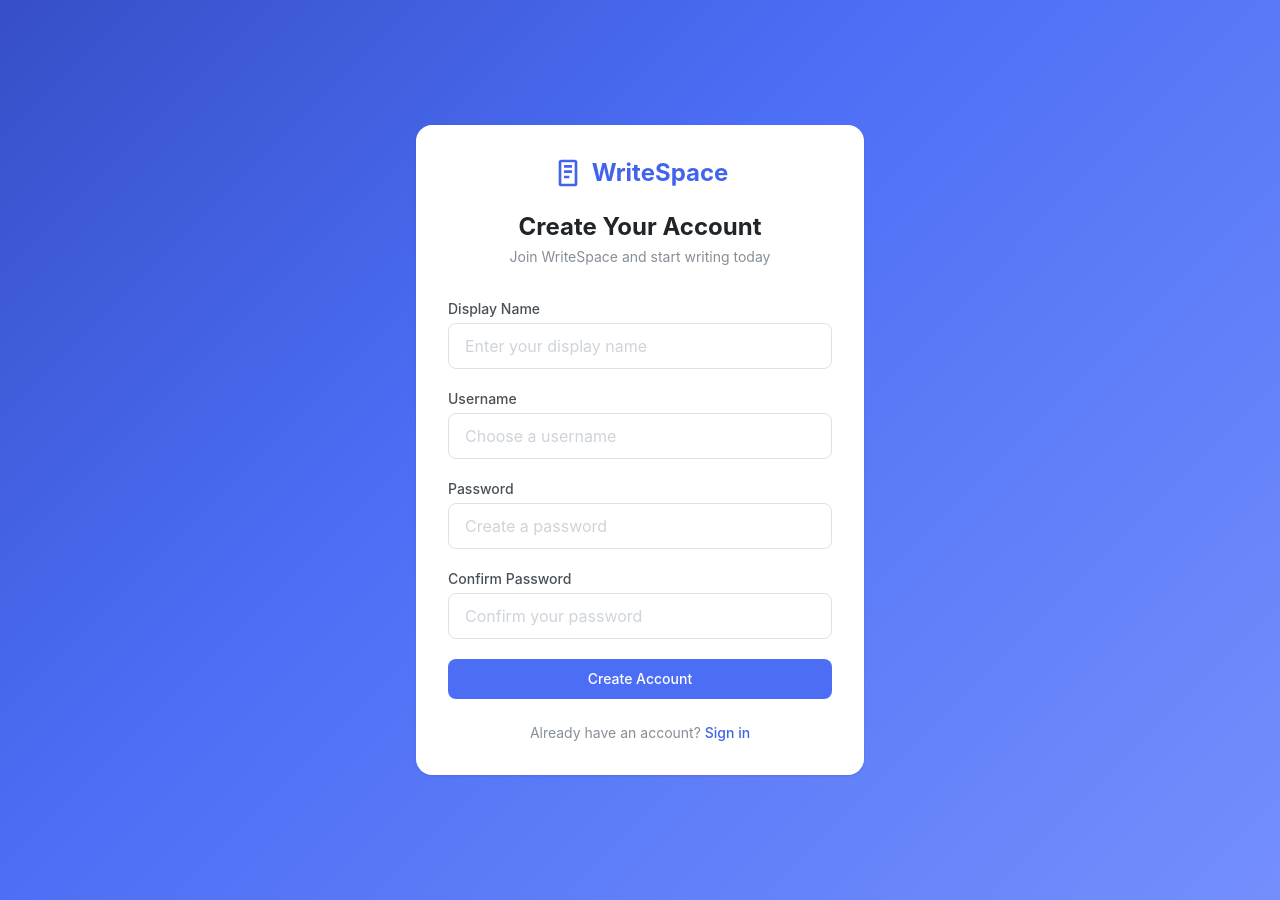
RegisterPage › validation errors › displays an error when passwords do not match
Type "Bob" into the field labelled "Display Name". click: (640, 346)
box: [448,323,832,369]
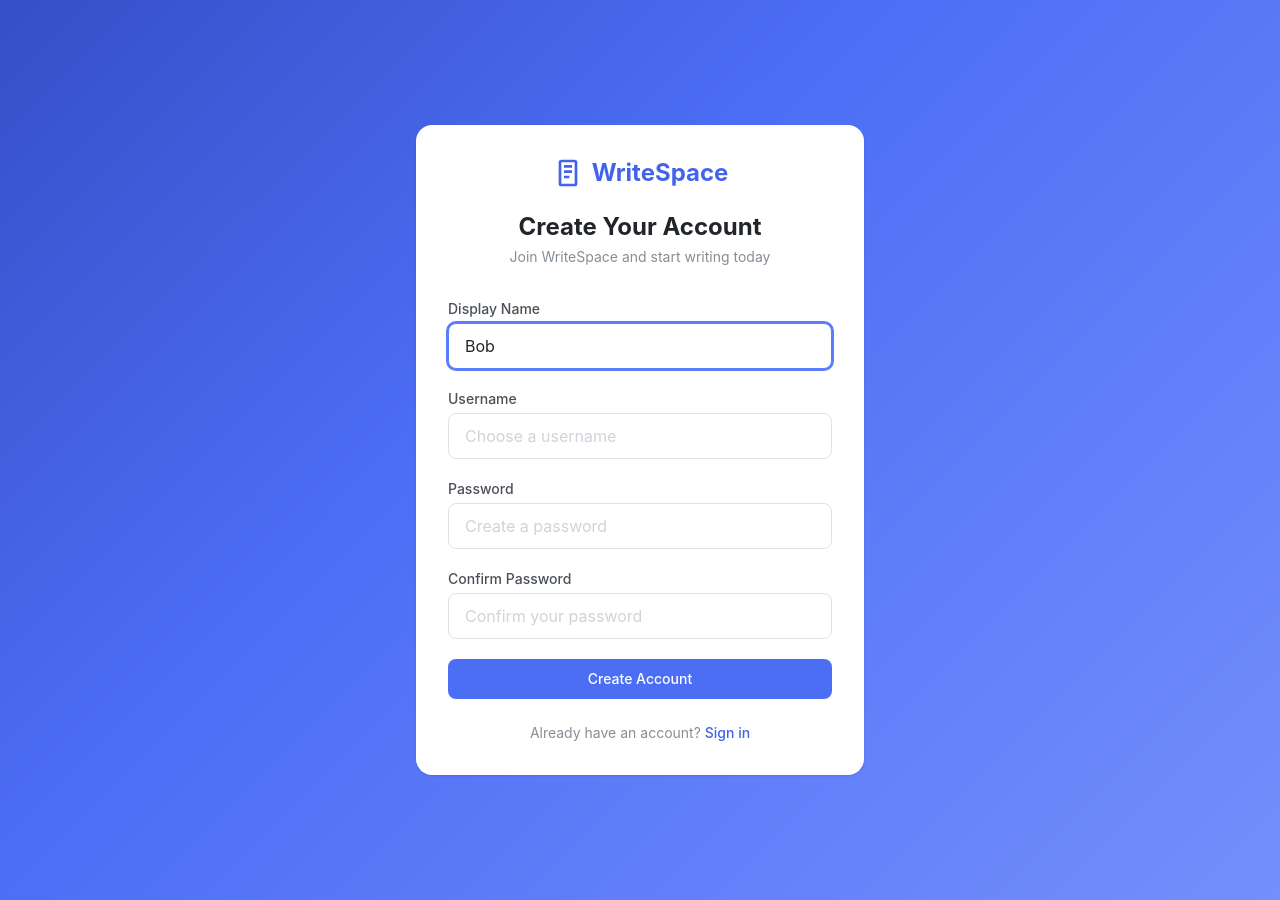
Type "bob" into the field labelled "Username". click: (640, 436)
box: [448,413,832,459]
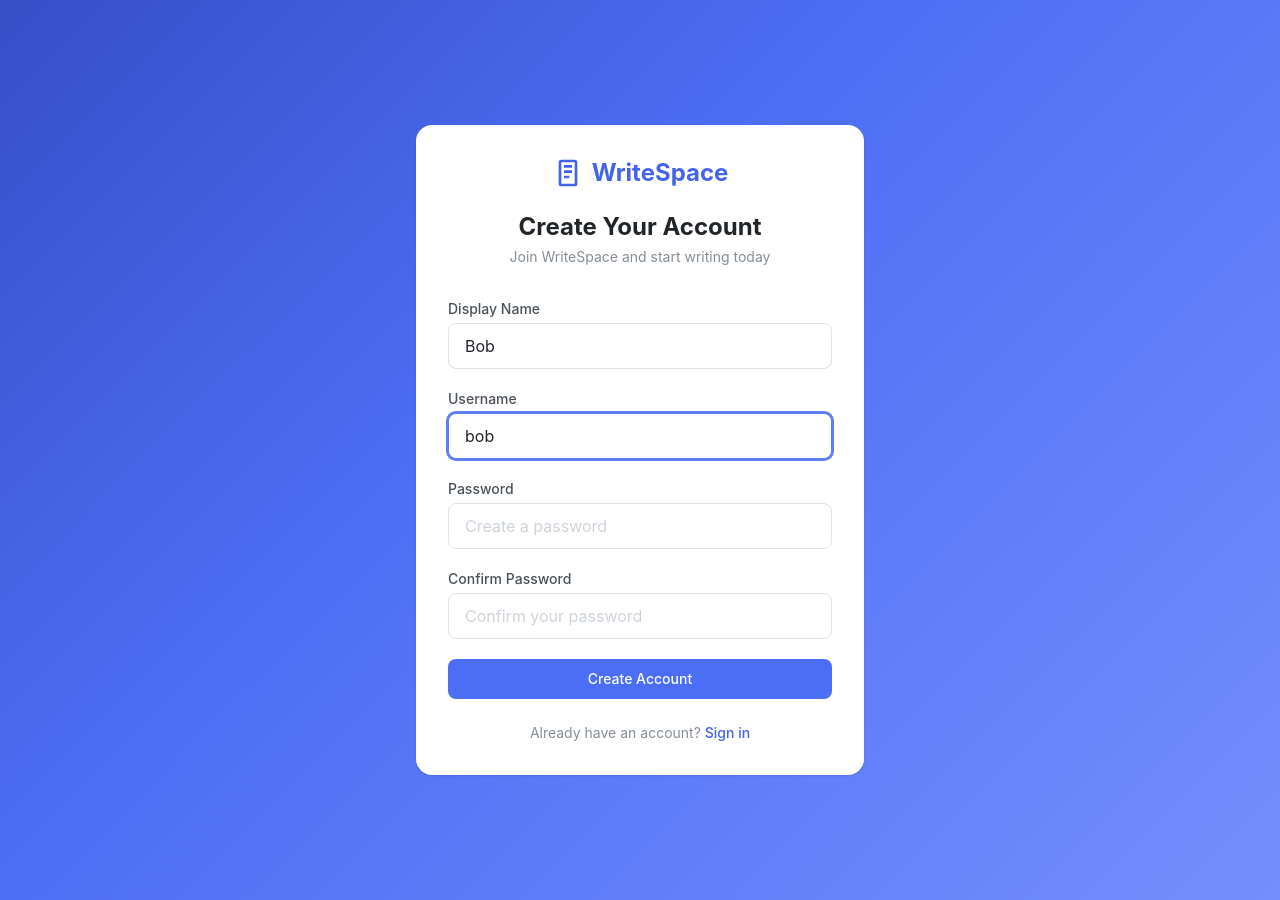
Type "password1" into the password field labelled "Password". click: (640, 526)
box: [448,503,832,549]
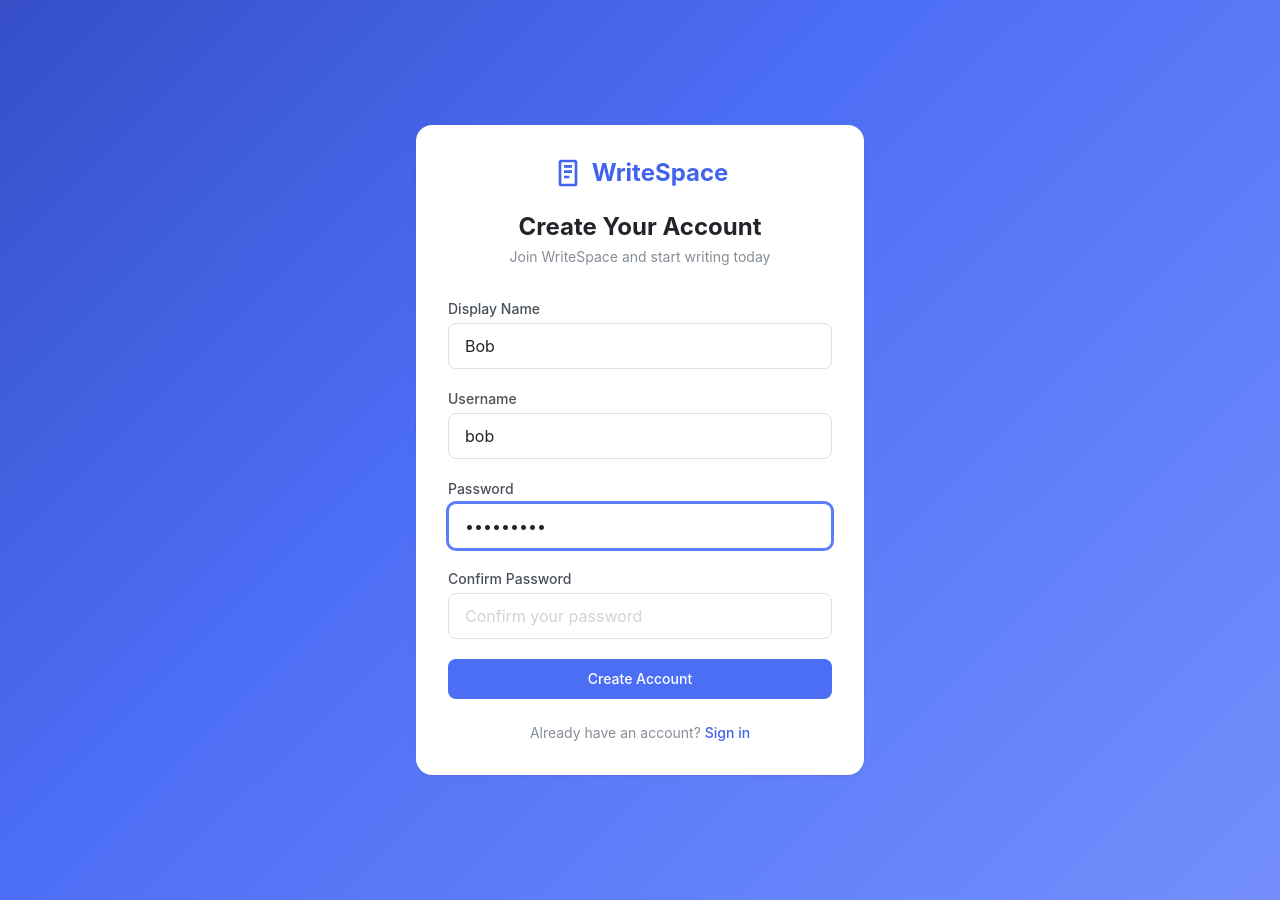
Type "password2" into the password field labelled "Confirm Password". click: (640, 616)
box: [448,593,832,639]
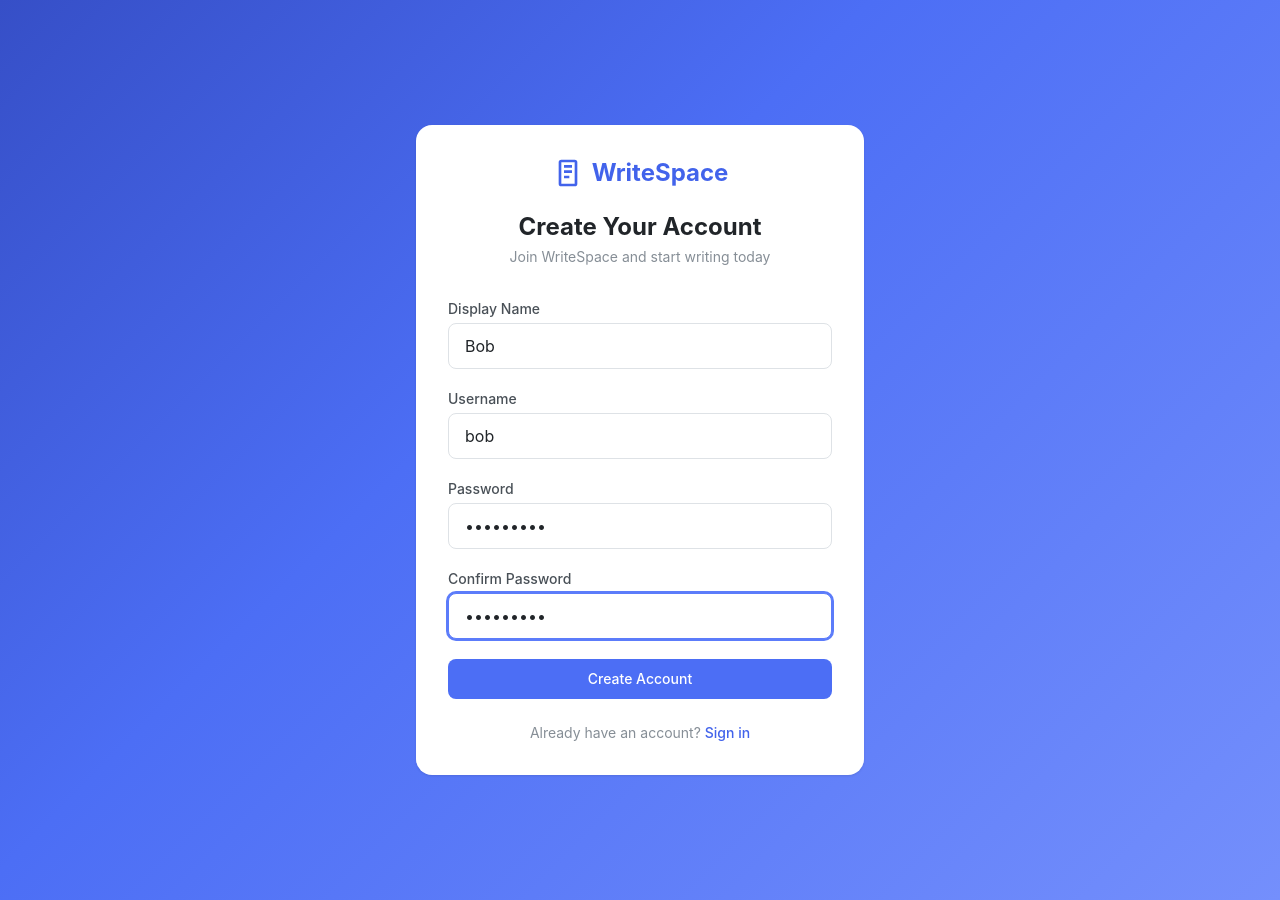
Click the button "Create Account". click: (640, 679)
box: [448,659,832,699]
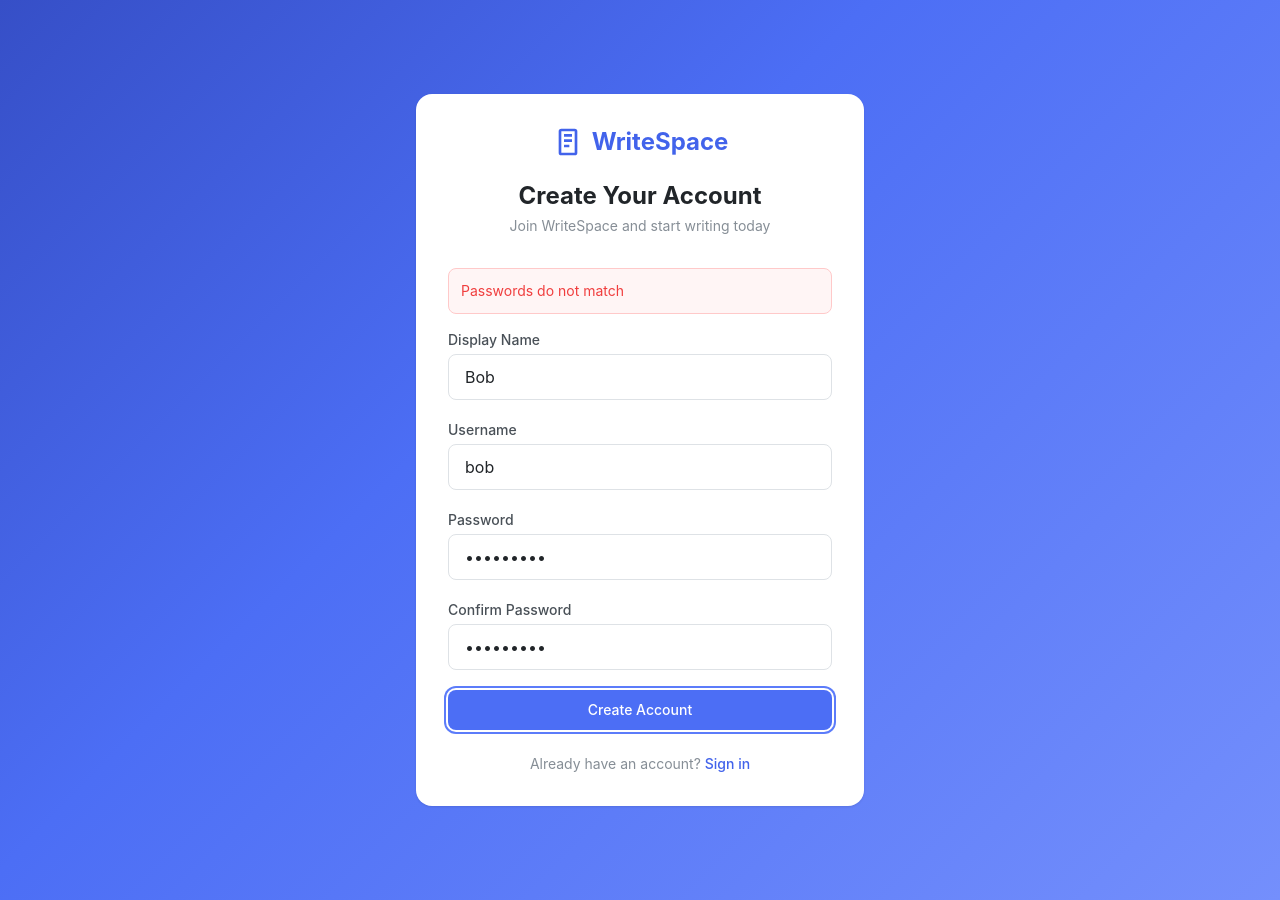
Expected: the message reads "Passwords do not match", [461,282,624,299]
